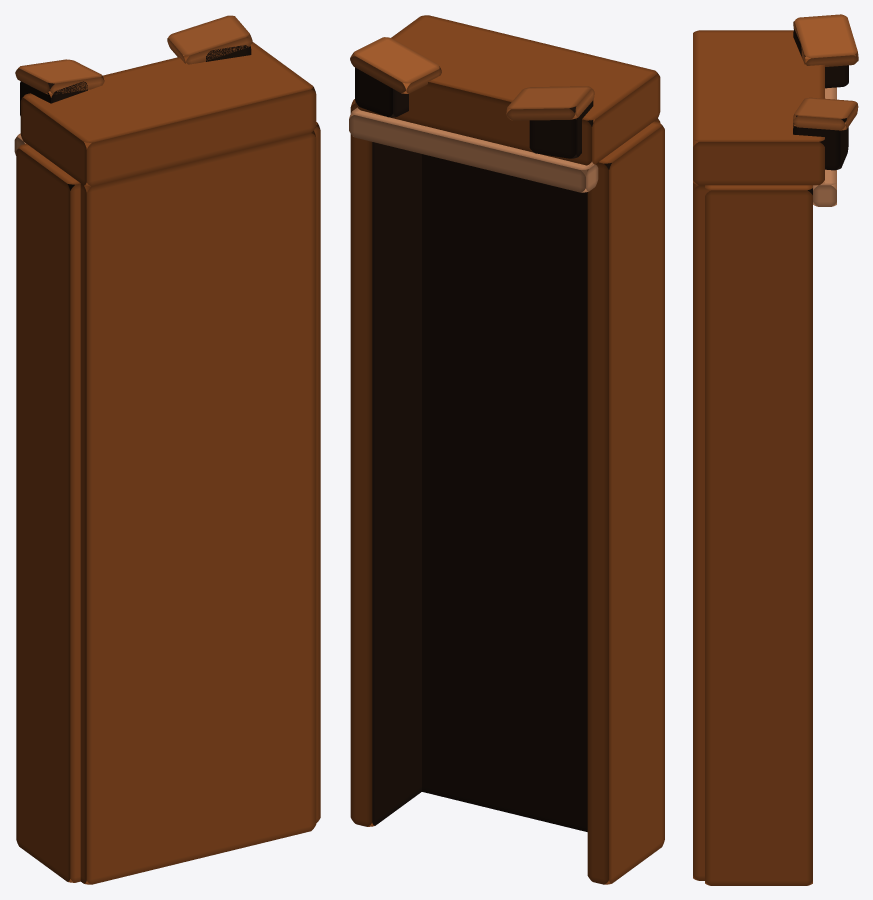
File: TOADTOPB.fbx
3 views of the same model, side by side, from view 1: azimuth 30°, elevation 25°; view 2: azimuth 150°, elevation 25°; view 3: azimuth 270°, elevation 25° (orthographic). The views are drawn at different scales.
Parts seen in each view (by area): view 1: cube_2, cube_1, Head, cube, cube_5, cube_6, cube_4; view 2: cube_2, cube_1, cube, Head, Lip, cube_5, cube_6, cube_4, cube_3; view 3: cube, Head, cube_2, cube_6, cube_5, cube_3, Lip, cube_4.
Boxes of the visible parts, x1,y1,x2,y2 form: cube_2: [80, 130, 316, 884]; cube_1: [16, 143, 90, 882]; Head: [20, 42, 316, 186]; cube: [314, 122, 320, 822]; cube_5: [167, 15, 252, 64]; cube_6: [15, 59, 104, 94]; cube_4: [20, 81, 87, 115]; cube_2: [422, 118, 660, 831]; cube_1: [587, 121, 664, 884]; cube: [350, 99, 421, 826]; Head: [355, 15, 660, 165]; Lip: [349, 107, 598, 192]; cube_5: [350, 37, 441, 93]; cube_6: [506, 86, 594, 120]; cube_4: [529, 100, 593, 158]; cube_3: [355, 67, 408, 117]; cube: [705, 185, 812, 885]; Head: [693, 30, 824, 185]; cube_2: [693, 140, 710, 880]; cube_6: [793, 14, 858, 66]; cube_5: [793, 97, 858, 130]; cube_3: [793, 115, 848, 170]; Lip: [813, 87, 836, 206]; cube_4: [793, 29, 848, 88].
Size of the model in its own units: 150 by 436 by 86.4.
1 material, 1 textured.
